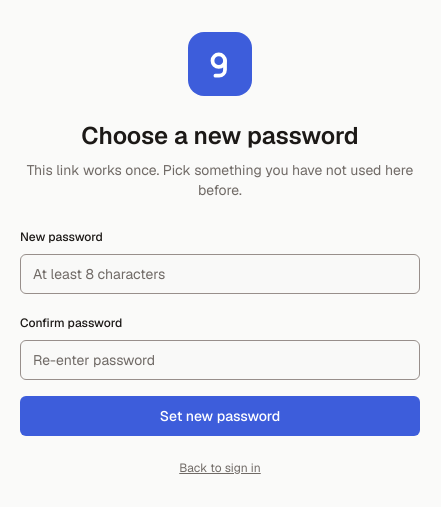
when the token is no good › shows the reason instead of a blank success
This screenshot has width=441, height=507.
Type "a-good-password" into the password field labelled "New password" at (220, 274), box [20,254,420,294]
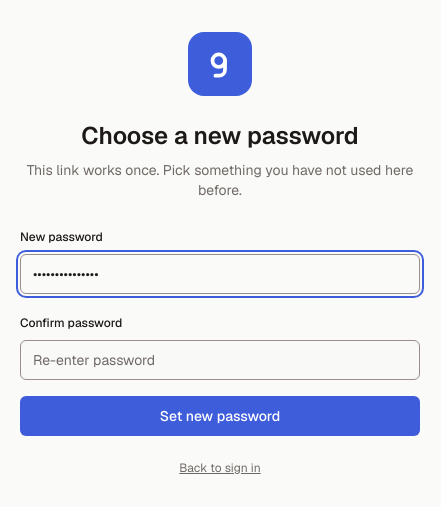
Type "a-good-password" into the password field labelled "Confirm password" at (220, 360), box [20,340,420,380]
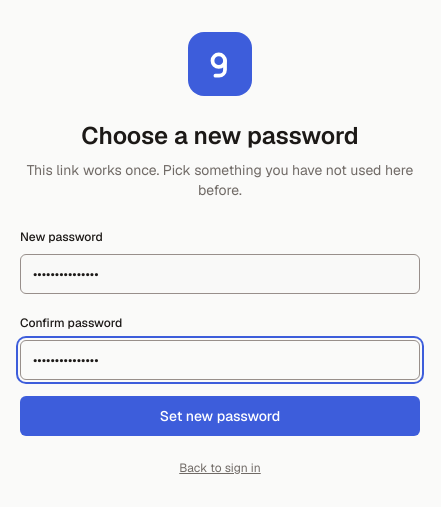
Click the button "Set new password" at (220, 416), box [20,396,420,436]
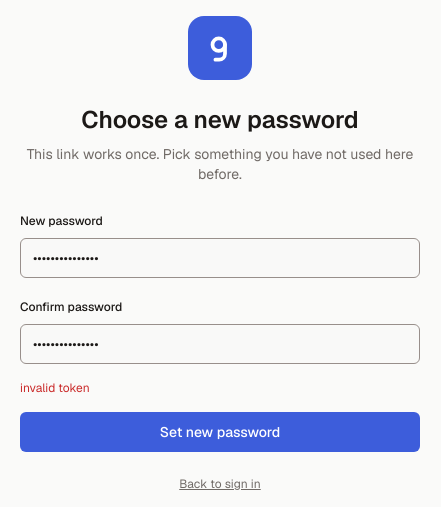
Expected: the text "invalid token" is shown, [20,380,90,396]
